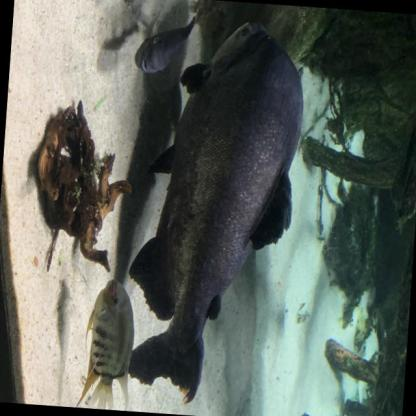fish: (114, 8, 310, 413), (74, 276, 137, 410), (134, 10, 196, 76)
